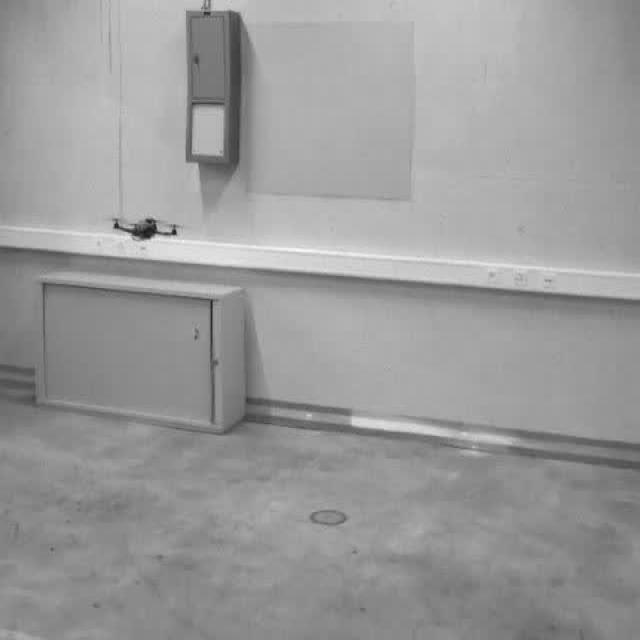drone: (106, 212, 184, 247)
